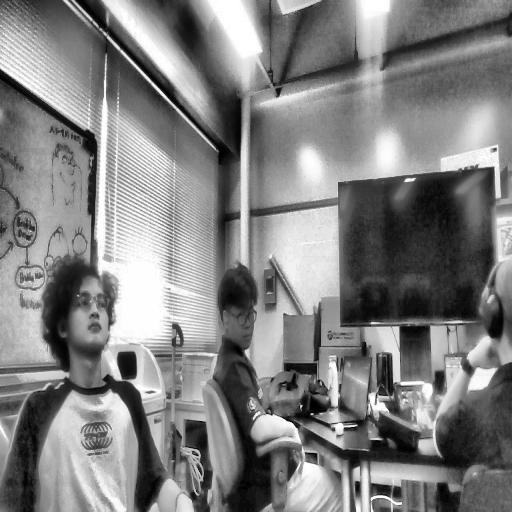Daifuku: (40, 259, 118, 352)
Not Daifuku: (479, 254, 512, 368), (215, 266, 256, 356)
